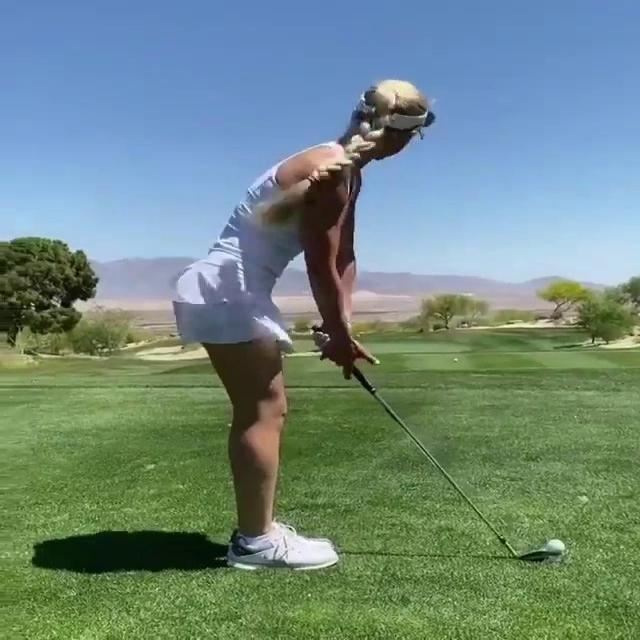ClubHead: (518, 548, 556, 562)
GolfBall: (547, 536, 569, 556)
